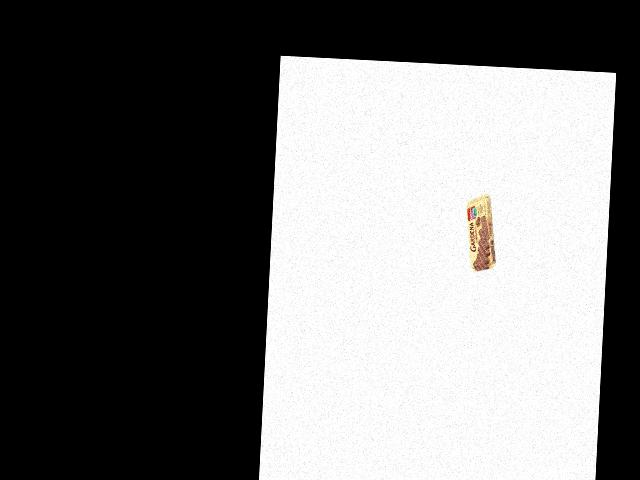chocolate: (461, 189, 496, 276)
